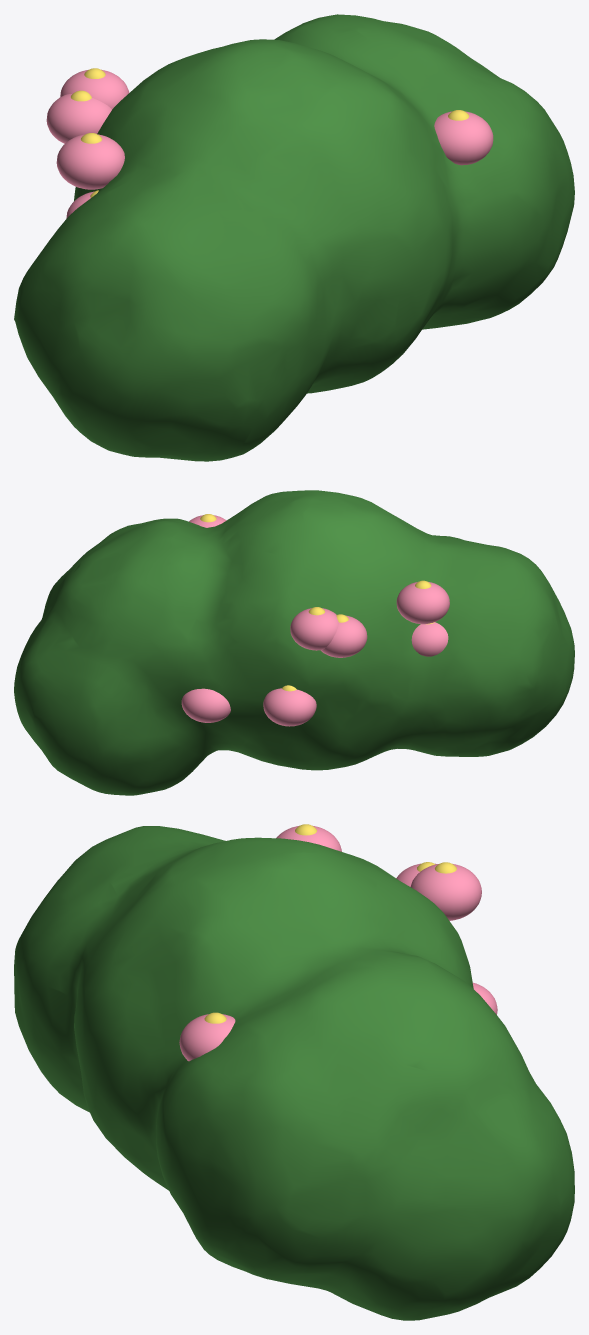
File: bush_pink.glb
3 views of the same model, one above another, from view 1: azimuth 30°, elevation 25°; view 2: azimuth 150°, elevation 25°; view 3: azimuth 270°, elevation 25° (orthographic). The views are drawn at different scales.
Visible parts, largest first — view 1: bush_pink; view 2: bush_pink; view 3: bush_pink.
Part boxes in pixels (x1,y1,x2,y2): bush_pink: [14, 14, 574, 461]; bush_pink: [14, 490, 574, 795]; bush_pink: [14, 824, 574, 1320].
Size of the model in its own units: 1.54 by 0.8819 by 1.24.
